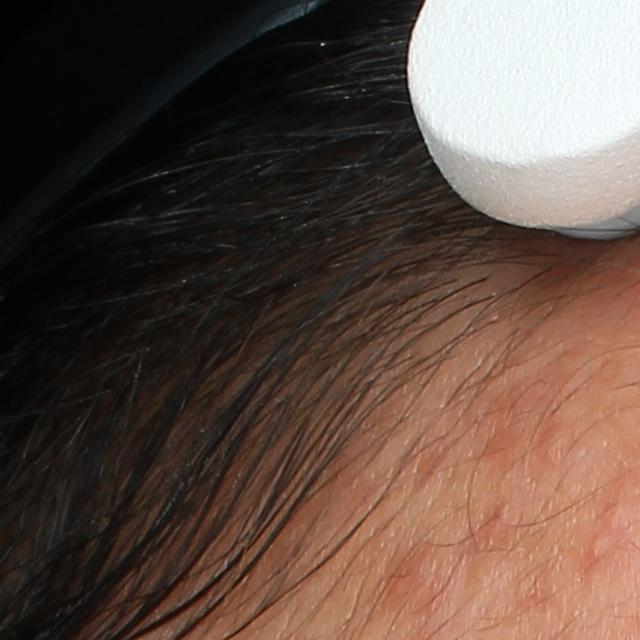papule: (385, 544, 449, 611), (539, 425, 573, 464)
